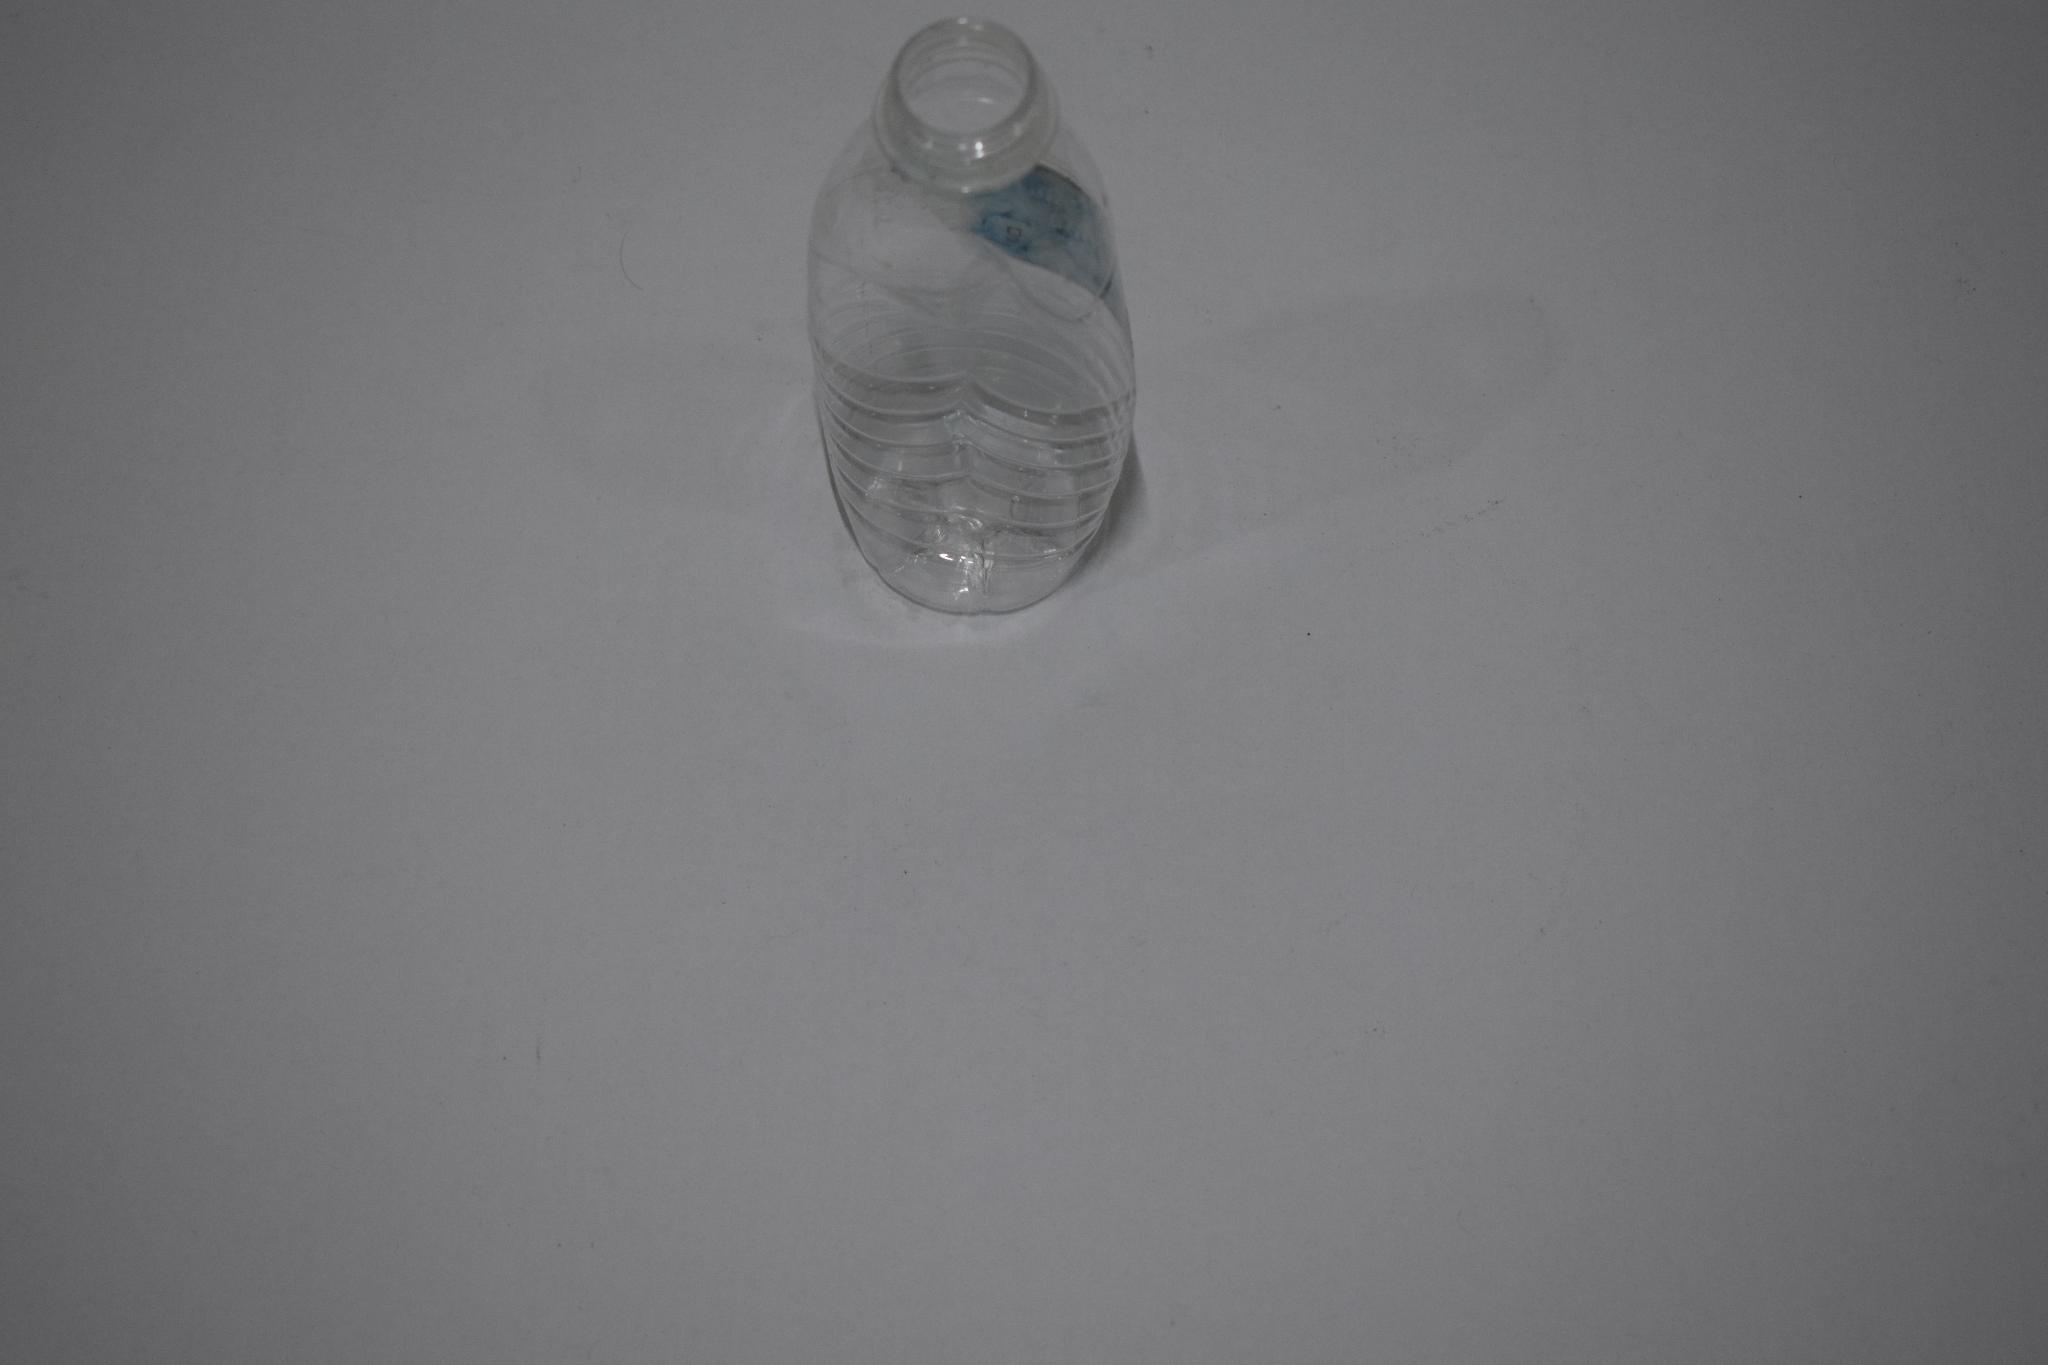bottle: (795, 41, 1147, 587)
